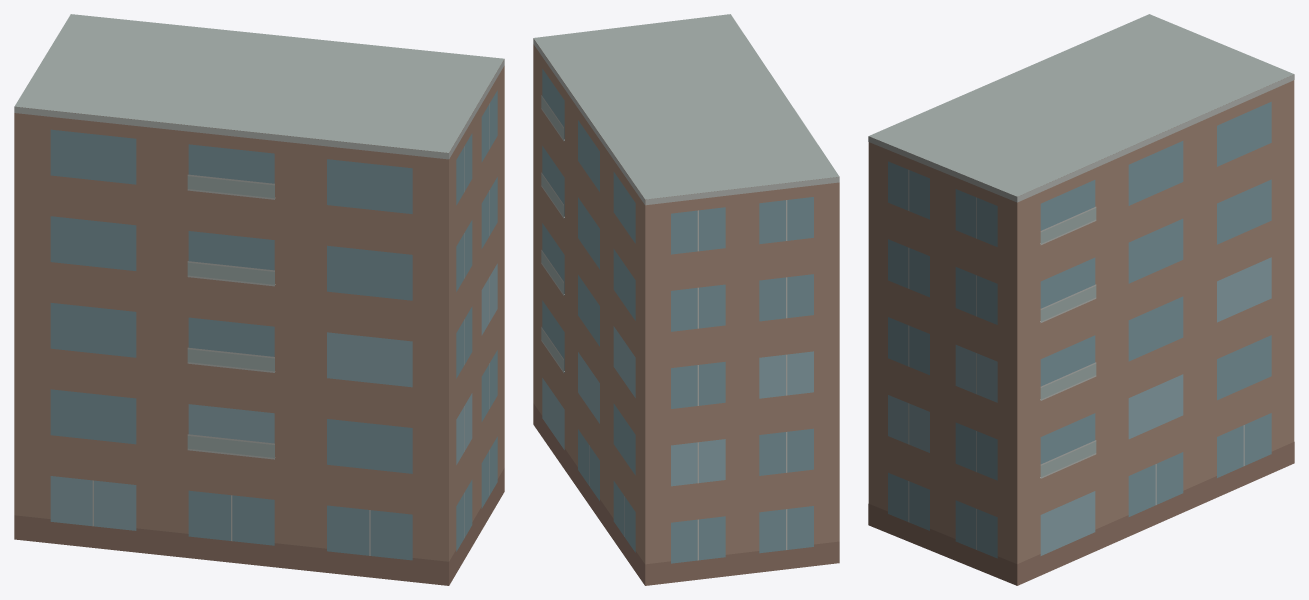
Rendered from survey-upis-32885760.glb.
The picture shows the model from 3 angles, left to right: view 1: azimuth 30°, elevation 25°; view 2: azimuth 150°, elevation 25°; view 3: azimuth 270°, elevation 25°; orthographic projection. The views are drawn at different scales.
Visible parts, largest first — view 1: survey-upis-32885760.tmp; view 2: survey-upis-32885760.tmp; view 3: survey-upis-32885760.tmp.
Boxes of the visible parts, x1=… form: survey-upis-32885760.tmp: x1=14, y1=14, x2=504, y2=585; survey-upis-32885760.tmp: x1=533, y1=14, x2=839, y2=585; survey-upis-32885760.tmp: x1=868, y1=14, x2=1294, y2=585.
Size of the model in its own units: 16.53 by 16.4 by 16.28.
